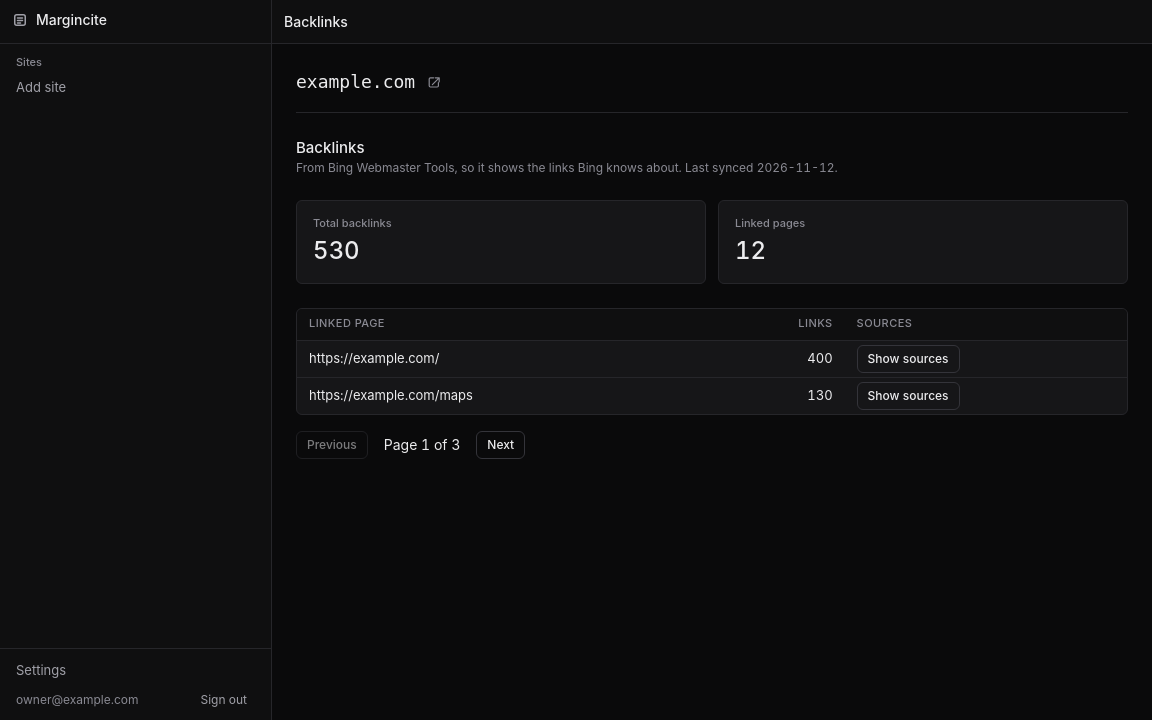
Test: a page without stored sources explains why
Click the button with aria-label "Show sources for https://example.com/maps" at (908, 396), box [857,382,960,410]
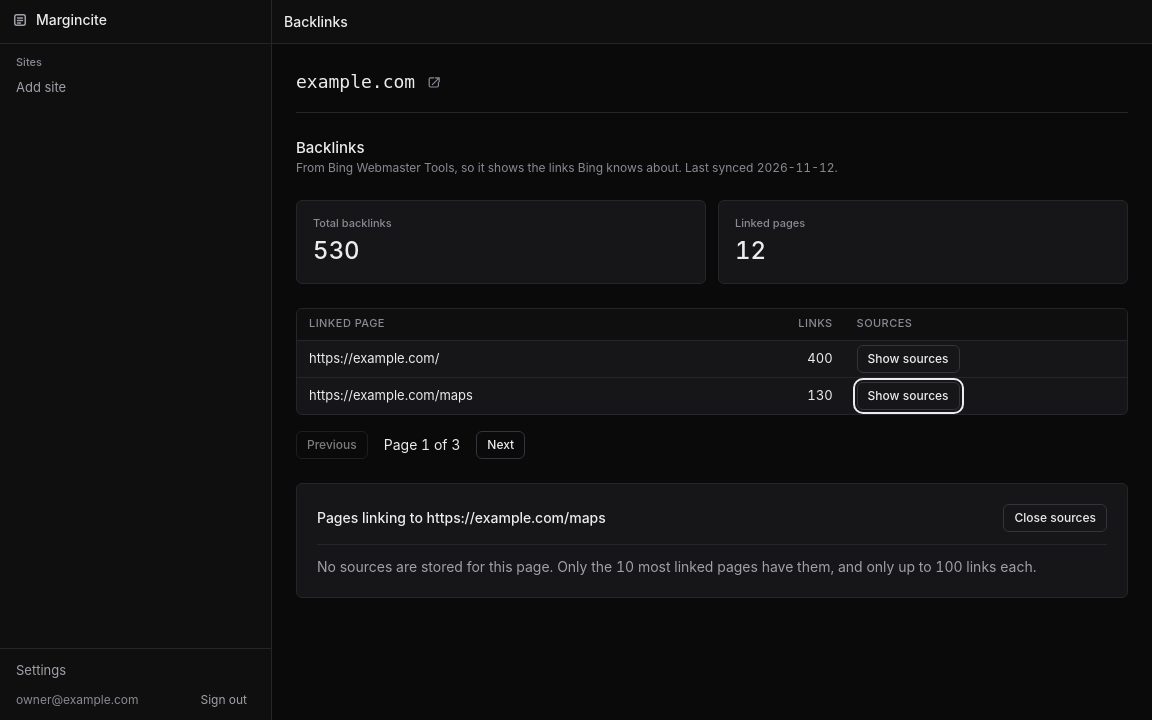
Result: the text "Only the 10 most linked pages" is shown at [317,558,1036,575]
